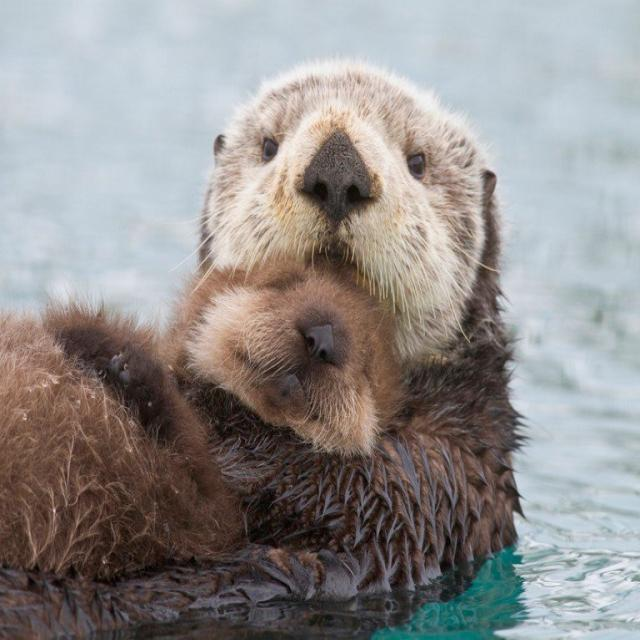Otter: (35, 47, 507, 638)
